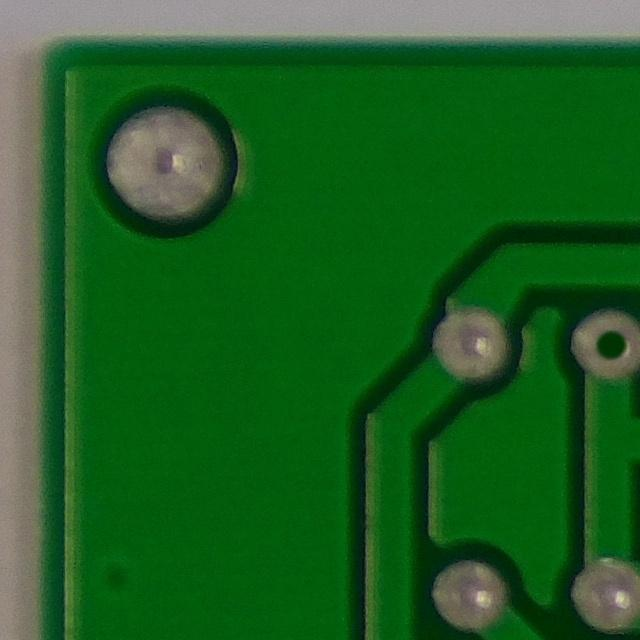missing_hole: (570, 301, 640, 386)
